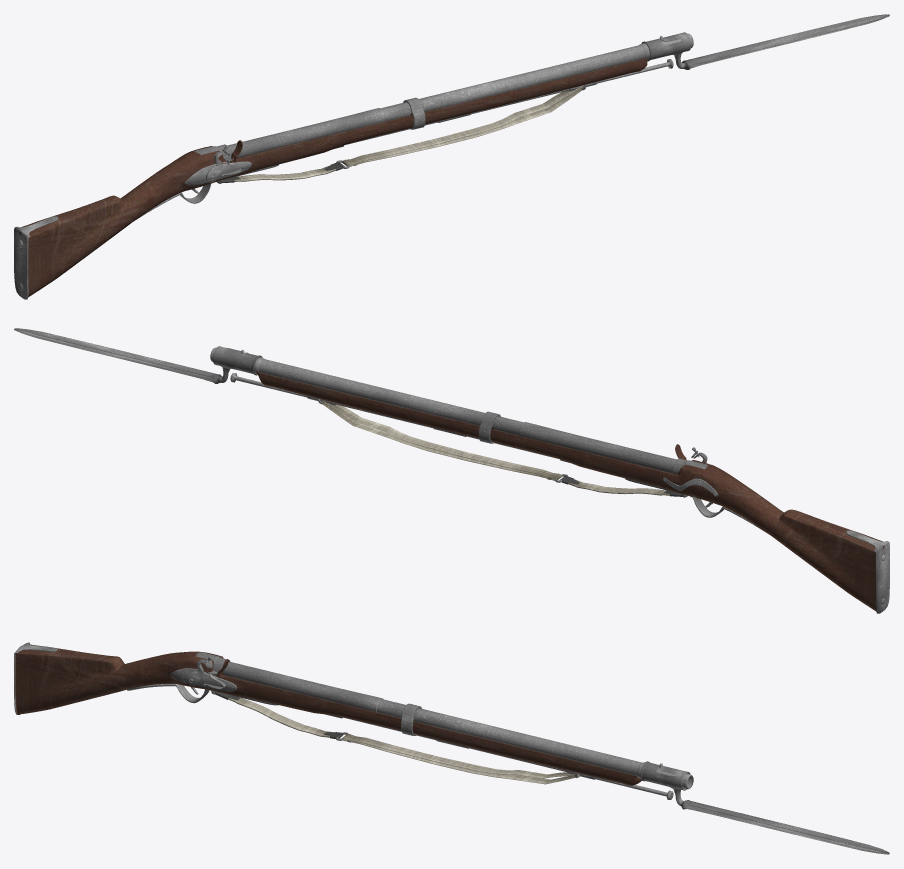
File: Musket.fbx
3 views of the same model, one above another, from view 1: azimuth 30°, elevation 25°; view 2: azimuth 150°, elevation 25°; view 3: azimuth 330°, elevation 25° (orthographic).
Visible parts, largest first — view 1: ARSbrownBess_20152.Shape; view 2: ARSbrownBess_20152.Shape; view 3: ARSbrownBess_20152.Shape.
Boxes of the visible parts, <box> form: ARSbrownBess_20152.Shape: <box>14,14,889,299</box>; ARSbrownBess_20152.Shape: <box>14,328,889,613</box>; ARSbrownBess_20152.Shape: <box>14,642,889,854</box>.
Size of the model in its own units: 192 by 23.31 by 7.4.
1 material, 1 textured.
